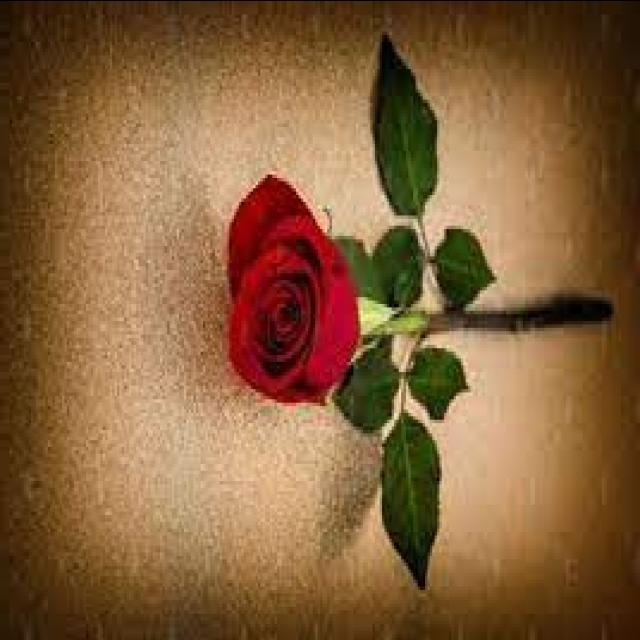rose: (217, 161, 376, 441)
